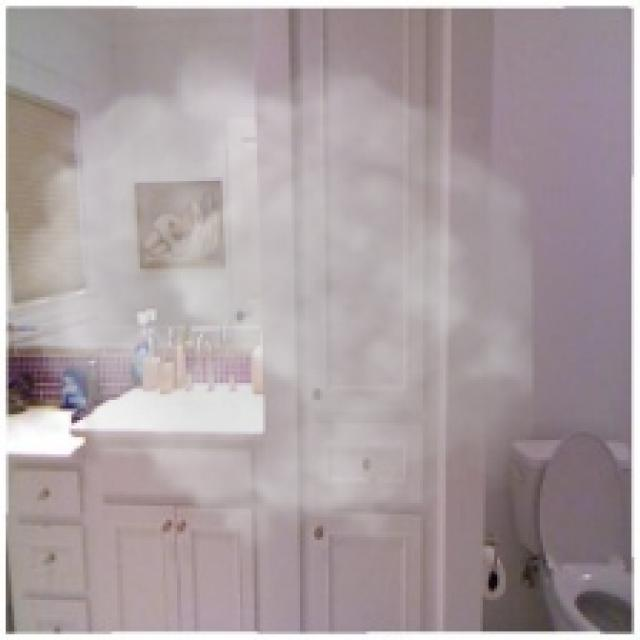smoke: (6, 29, 534, 568)
